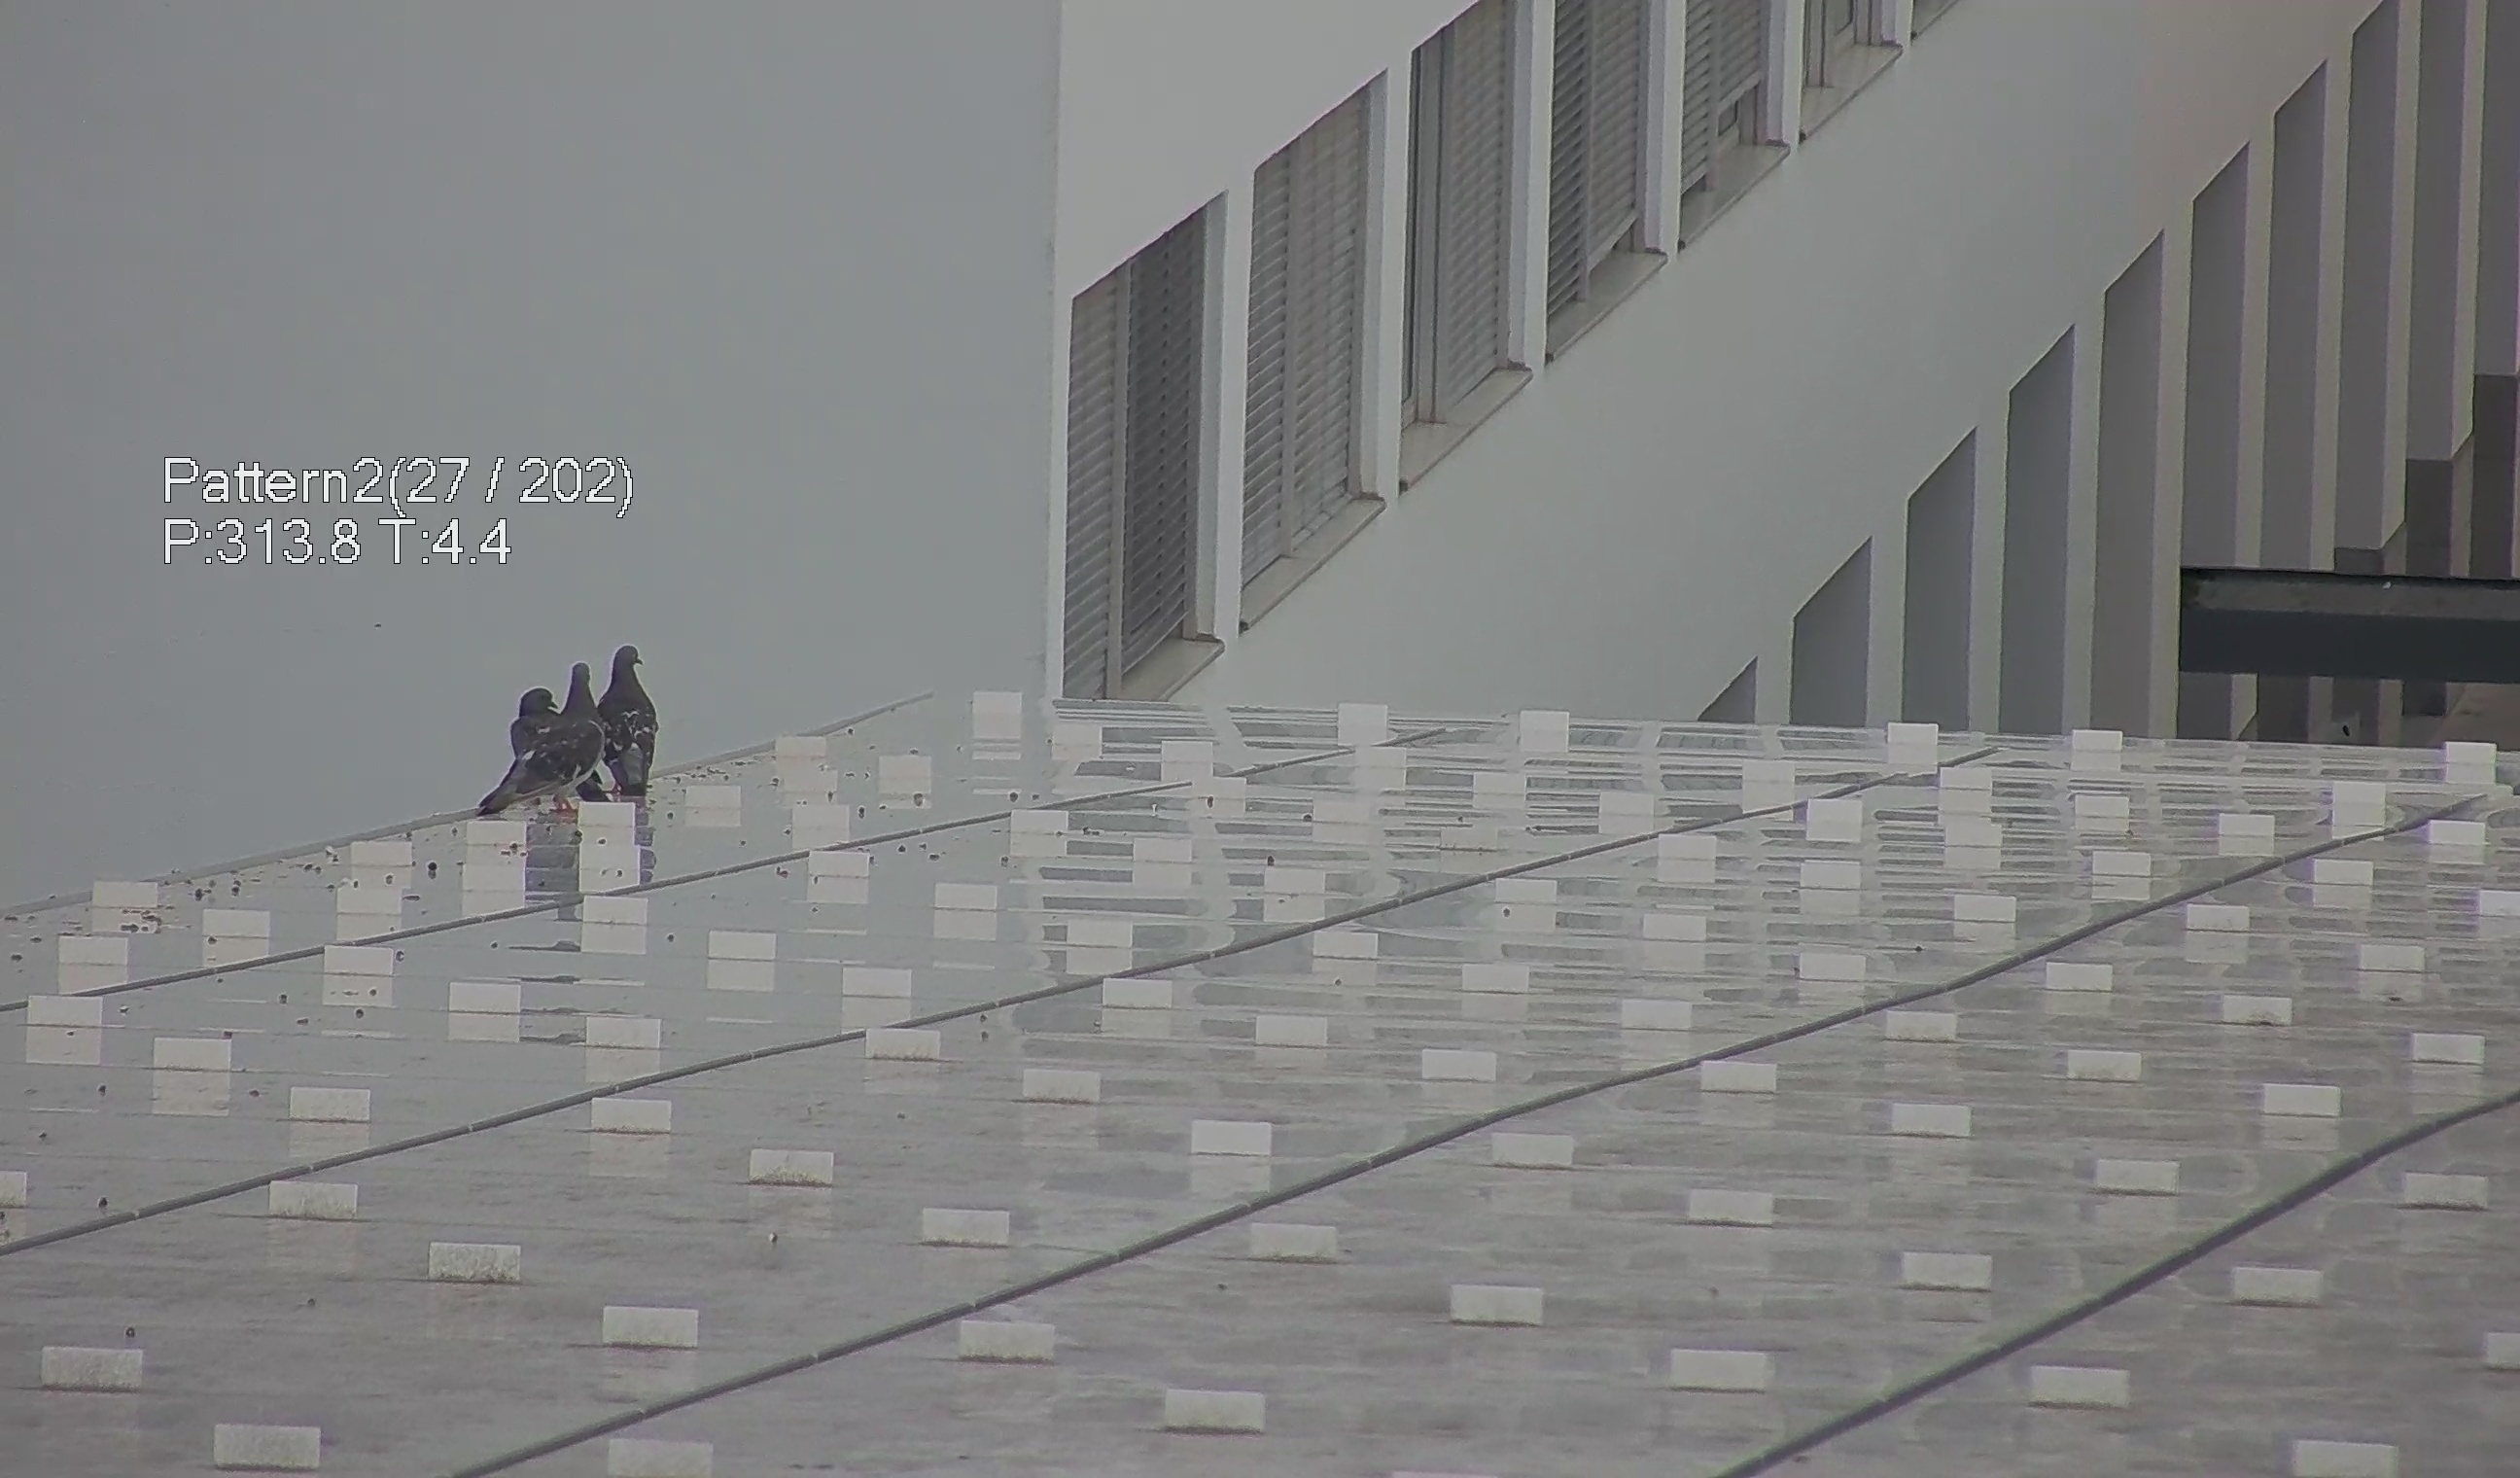Pigeon: (484, 667, 610, 820), (584, 639, 666, 802), (505, 681, 572, 746)
